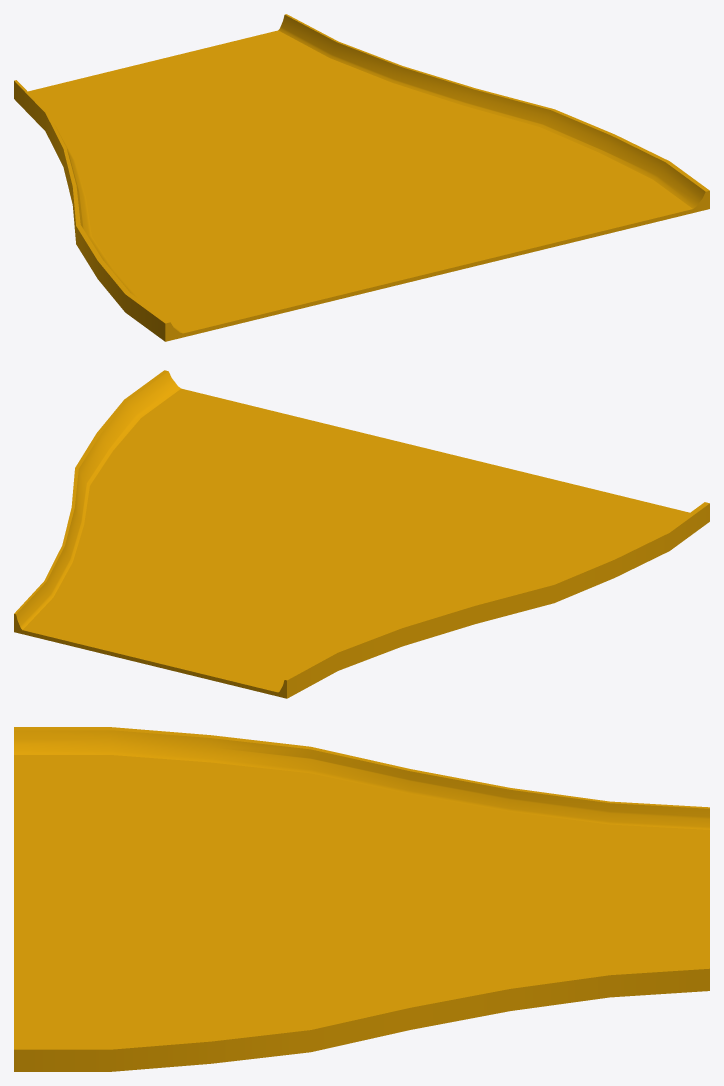
The model's file is 14mTrack_Blockout_ConverterTrack.fbx.
3 renders of one model, top to bottom at view 1: azimuth 30°, elevation 25°; view 2: azimuth 150°, elevation 25°; view 3: azimuth 270°, elevation 25°, orthographic. The views are drawn at different scales.
Parts seen in each view (by area): view 1: polySurface121; view 2: polySurface121; view 3: polySurface121.
Part boxes in pixels (x1,y1,x2,y2): polySurface121: (14,14,709,341); polySurface121: (14,370,709,698); polySurface121: (14,727,709,1071).
Size of the model in its own units: 1400 by 45 by 1277.
